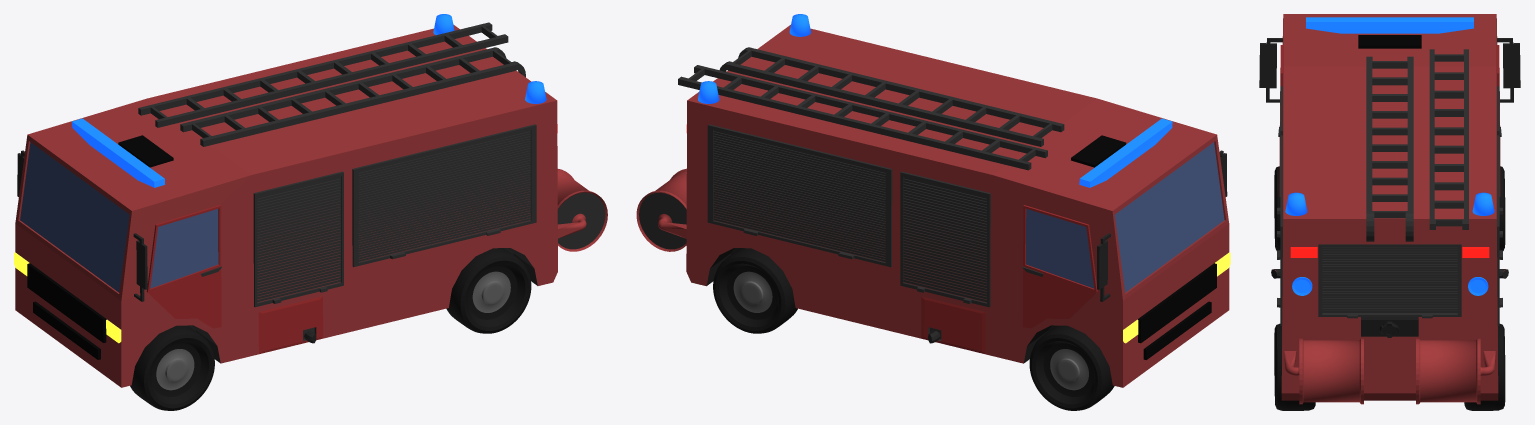
Rendered from Fire Engine Low Poly.glb.
3 renders of one model, left to right at view 1: azimuth 30°, elevation 25°; view 2: azimuth 150°, elevation 25°; view 3: azimuth 270°, elevation 25°, orthographic. The views are drawn at different scales.
Parts seen in each view (by area): view 1: truck_13, Cube.001_15, Cube.003_17, echelle2_8, echelle1_7, RF_Tire_12, RB_Tire_11, Cube_14, Cube.002_16; view 2: truck_13, Cube.001_15, Cube.003_17, echelle2_8, echelle1_7, LF_Tire_10, LB_Tire_9, Cube_14, Cube.002_16; view 3: truck_13, Cube.005_19, echelle2_8, echelle1_7, Cube.004_18, Cube_14, Cube.008_6, RB_Tire_11, LB_Tire_9, RF_Tire_12, LF_Tire_10, Circle.002_4 (+6 smaller).
Part boxes in pixels (x1,y1,x2,y2): truck_13: (14, 24, 607, 387); Cube.001_15: (358, 129, 530, 261); Cube.003_17: (257, 176, 340, 302); echelle2_8: (180, 47, 525, 146); echelle1_7: (138, 22, 508, 127); RF_Tire_12: (130, 325, 214, 410); RB_Tire_11: (446, 248, 531, 333); Cube_14: (352, 124, 536, 267); Cube.002_16: (253, 171, 343, 307); truck_13: (636, 25, 1230, 387); Cube.001_15: (713, 129, 885, 261); Cube.003_17: (903, 176, 986, 302); echelle2_8: (719, 47, 1064, 146); echelle1_7: (678, 65, 1047, 170); LF_Tire_10: (1029, 325, 1114, 410); LB_Tire_9: (713, 248, 797, 333); Cube_14: (707, 124, 892, 267); Cube.002_16: (900, 171, 990, 307); truck_13: (1259, 14, 1520, 404); Cube.005_19: (1322, 247, 1457, 312); echelle2_8: (1366, 56, 1413, 241); echelle1_7: (1429, 49, 1468, 229); Cube.004_18: (1318, 244, 1461, 318); Cube_14: (1277, 135, 1502, 325); Cube.008_6: (1361, 317, 1418, 337); RB_Tire_11: (1274, 323, 1315, 410); LB_Tire_9: (1464, 324, 1505, 410); RF_Tire_12: (1274, 166, 1280, 250); LF_Tire_10: (1499, 166, 1505, 250); Circle.002_4: (1472, 192, 1494, 215).
Size of what is drawn, in the model's own units: 4.34 by 1.94 by 1.93.
